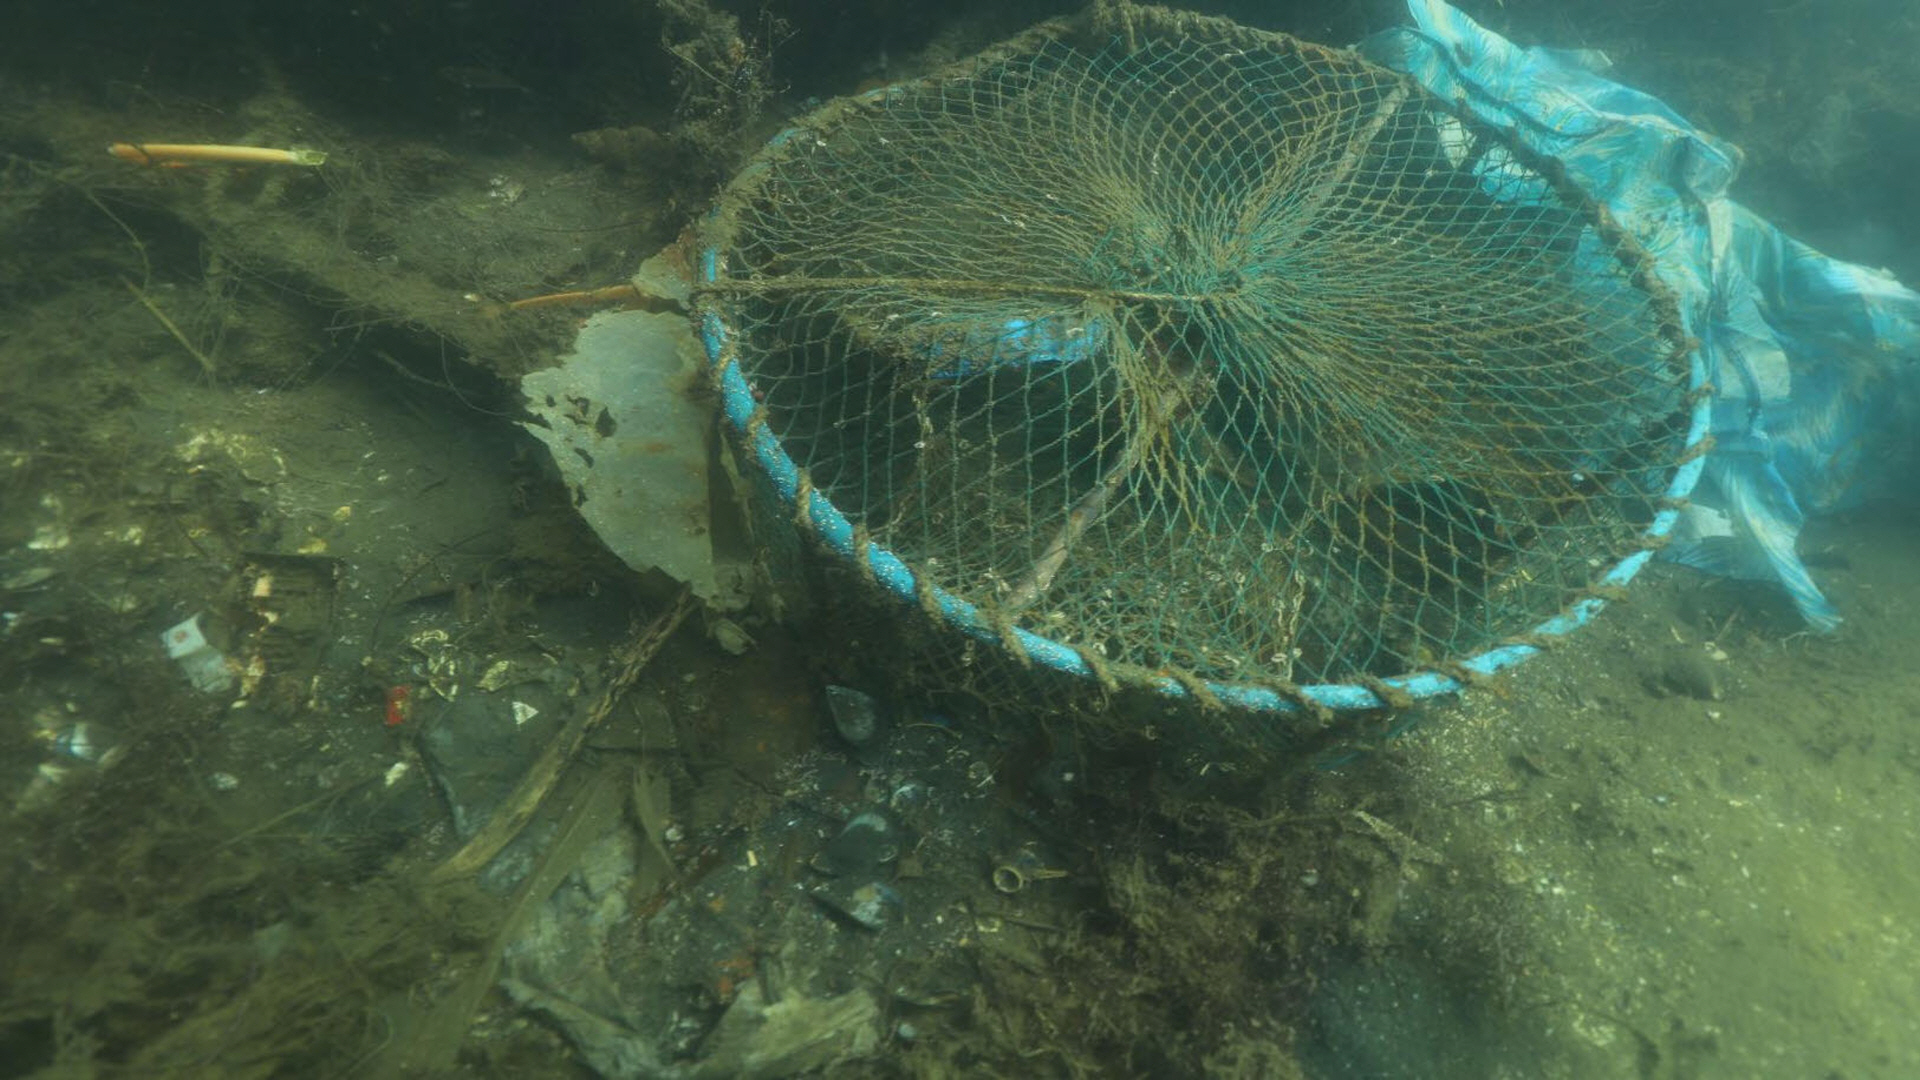circular fish trap: (698, 0, 1716, 715)
